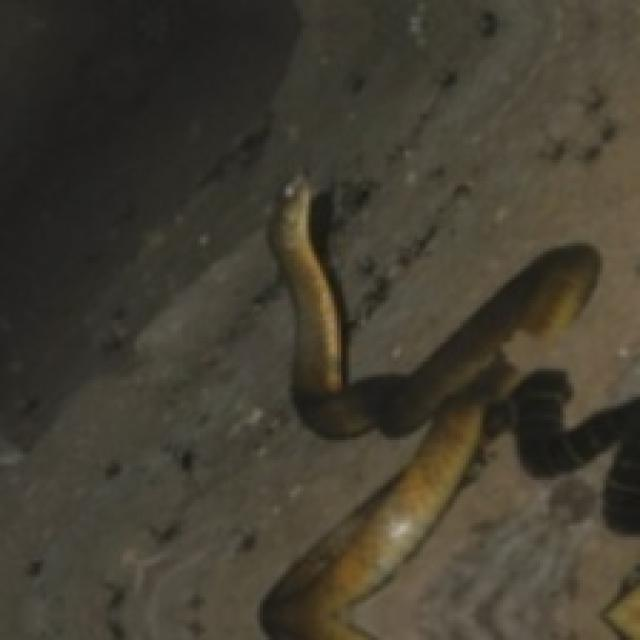king cobra: (263, 177, 597, 637), (263, 180, 597, 637), (271, 180, 597, 434)
